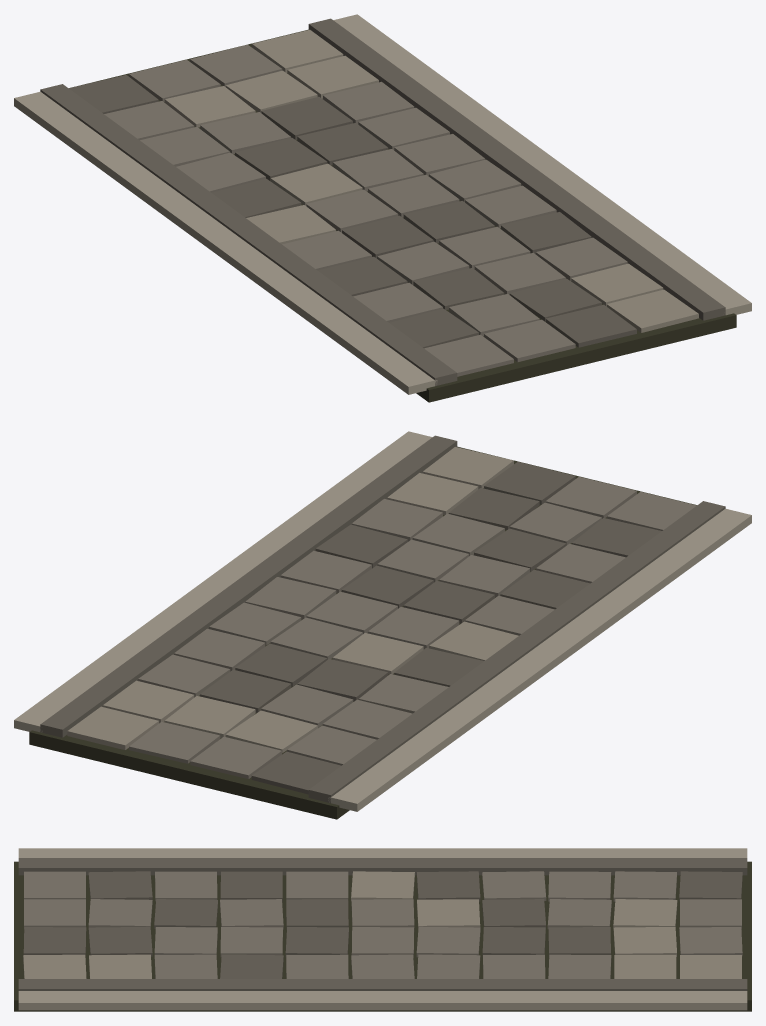
Rendered from V_Rue_Pavee.glb.
The picture shows the model from 3 angles, top to bottom: view 1: azimuth 30°, elevation 25°; view 2: azimuth 150°, elevation 25°; view 3: azimuth 270°, elevation 25°; orthographic projection. The views are drawn at different scales.
Visible parts, largest first — view 1: V_Rue_Pavee; view 2: V_Rue_Pavee; view 3: V_Rue_Pavee.
Boxes of the visible parts, x1,y1,x2,y2 form: V_Rue_Pavee: (14,14,751,402); V_Rue_Pavee: (14,431,751,819); V_Rue_Pavee: (14,848,751,1011).
Bounding box in the file's own units: 4.02 × 0.23 × 8.1.
